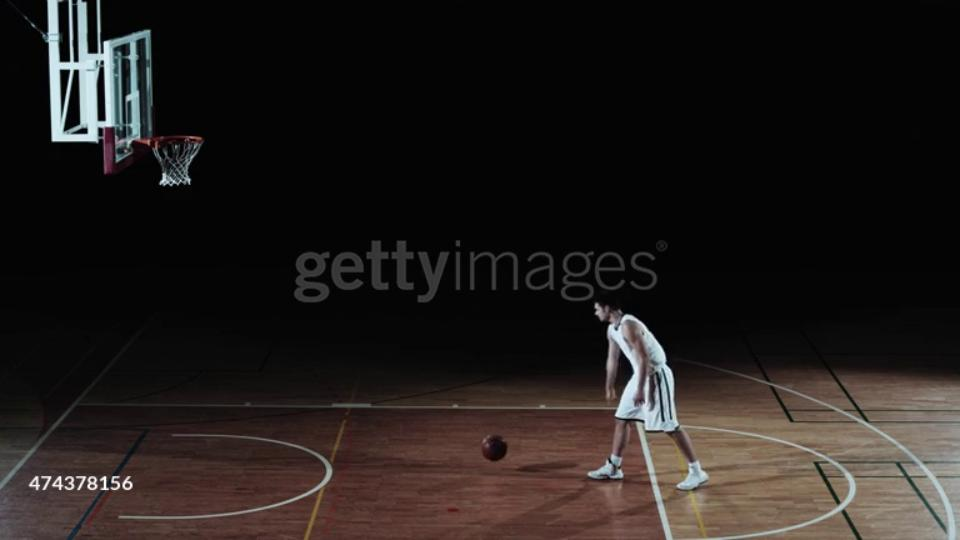hoop: (133, 130, 212, 154)
